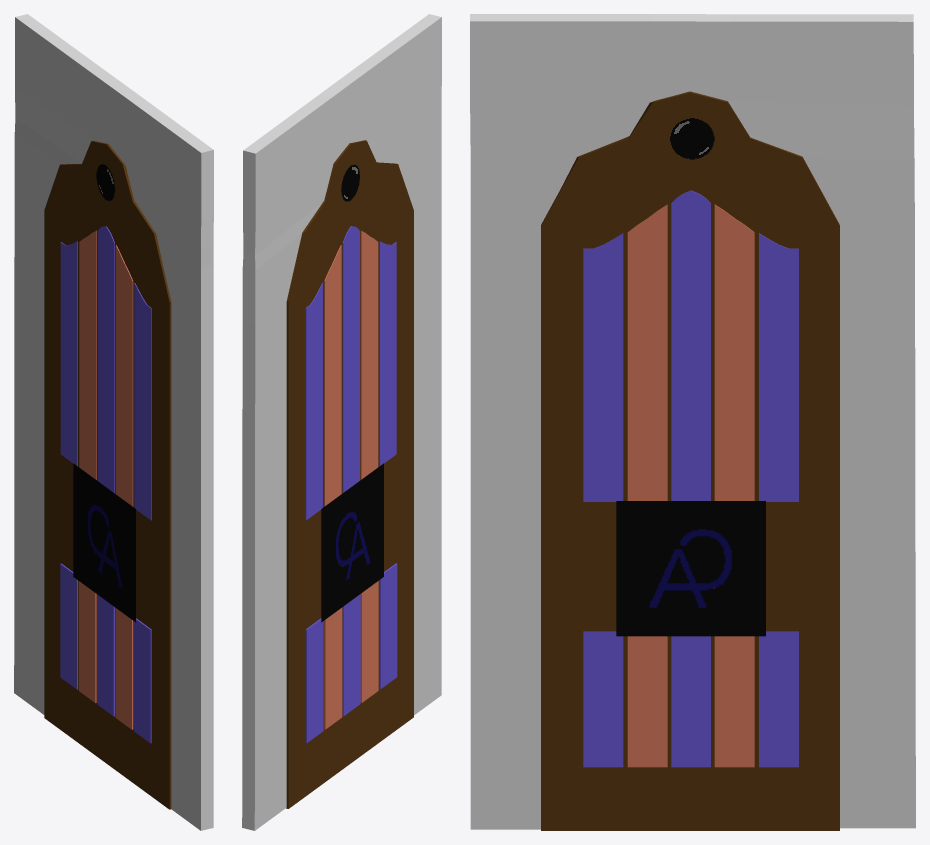
Rendered from Door&Frame.fbx.
3 renders of one model, left to right at view 1: azimuth 30°, elevation 25°; view 2: azimuth 150°, elevation 25°; view 3: azimuth 270°, elevation 25°, orthographic. The views are drawn at different scales.
Parts seen in each view (by area): view 1: Cube.009, Cube, Cube.003, Cube.002, CA.001, Cube.001, Cube.006, Cube.005, Cube.004, Ball; view 2: Cube.009, Cube, Cube.003, Cube.002, CA.001, Cube.001, Cube.005, Cube.006, Cube.004, Ball; view 3: Cube.009, Cube, Cube.003, Cube.002, CA.001, Cube.001, Cube.005, Cube.006, Cube.004, Ball.
Boxes of the visible parts, <box> form: Cube.009: <box>14,14,213,830</box>; Cube: <box>44,141,171,809</box>; Cube.003: <box>79,230,133,506</box>; Cube.002: <box>60,241,151,520</box>; CA.001: <box>73,463,135,622</box>; Cube.001: <box>97,226,114,493</box>; Cube.006: <box>78,581,133,729</box>; Cube.005: <box>60,563,151,743</box>; Cube.004: <box>97,594,114,716</box>; Ball: <box>96,164,115,200</box>; Cube.009: <box>242,14,441,830</box>; Cube: <box>286,140,413,808</box>; Cube.003: <box>324,230,378,506</box>; Cube.002: <box>305,241,396,520</box>; CA.001: <box>321,463,383,622</box>; Cube.001: <box>342,226,359,492</box>; Cube.005: <box>305,563,397,743</box>; Cube.006: <box>324,581,378,729</box>; Cube.004: <box>342,594,360,716</box>; Ball: <box>341,164,359,201</box>; Cube.009: <box>470,14,915,829</box>; Cube: <box>541,91,839,830</box>; Cube.003: <box>627,204,754,500</box>; Cube.002: <box>583,233,798,501</box>; CA.001: <box>616,501,765,636</box>; Cube.001: <box>671,190,710,500</box>; Cube.005: <box>583,631,798,767</box>; Cube.006: <box>627,636,754,767</box>; Cube.004: <box>671,636,710,767</box>; Ball: <box>670,118,714,159</box>.
Bounding box in the file's own units: 56.11 × 1792 × 896.
